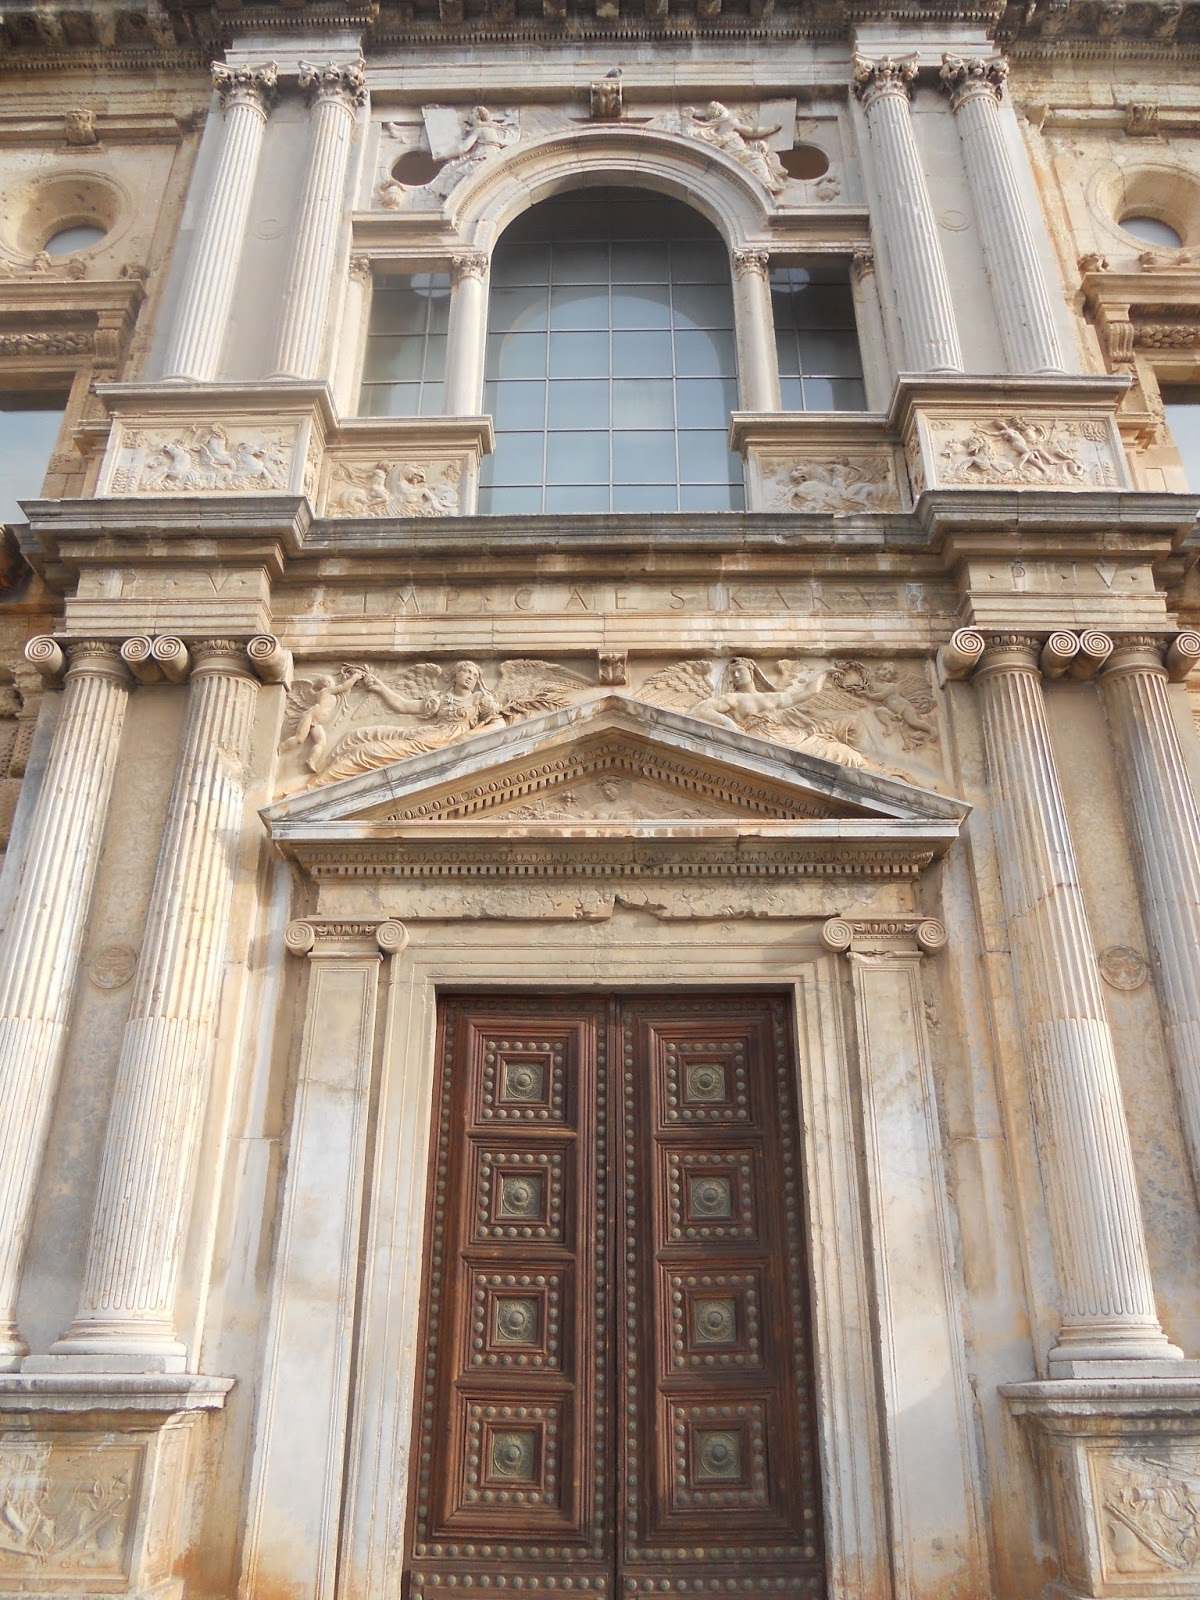fronton: (253, 675, 1003, 879)
serliana: (340, 125, 906, 431)
vano-adintelado: (371, 912, 881, 1600)
